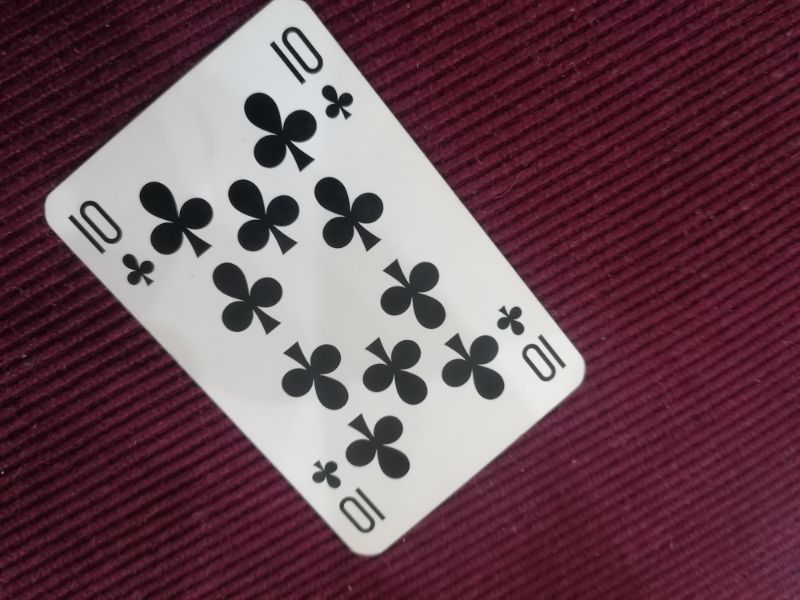Tc: (266, 20, 358, 124), (63, 197, 159, 290), (308, 454, 387, 536), (495, 300, 568, 382)
